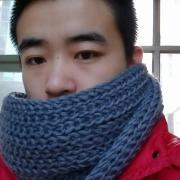WRONG: (19, 29, 134, 134)
